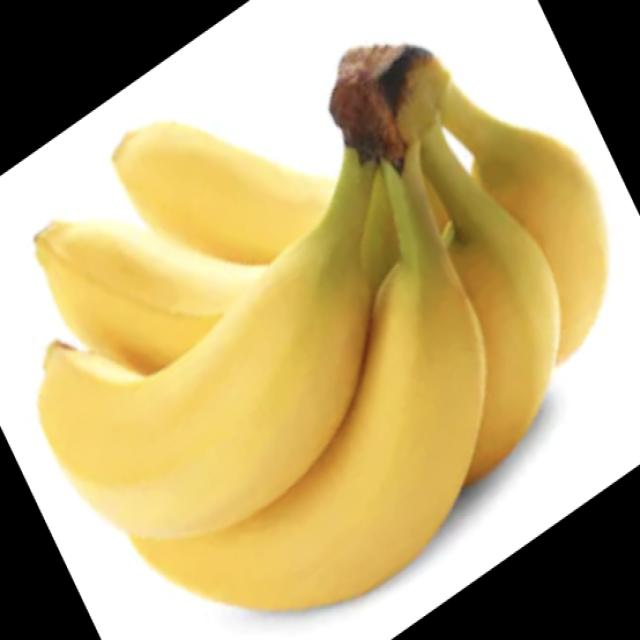god quality banana: (35, 47, 609, 610)
